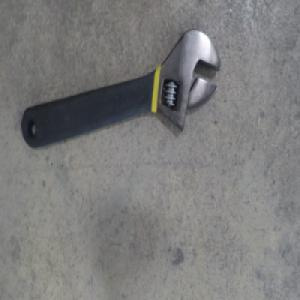AdjustableWrench: (22, 29, 222, 148)
